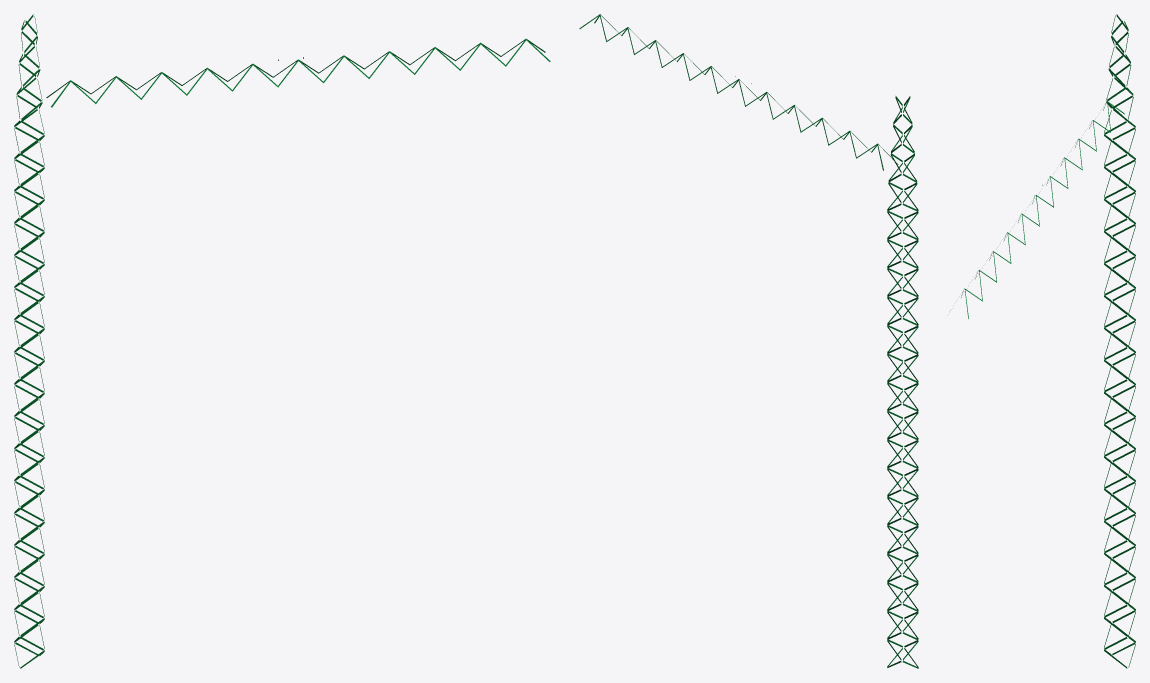
File: DblSided.001.fbx
The picture shows the model from 3 angles, left to right: view 1: azimuth 30°, elevation 25°; view 2: azimuth 150°, elevation 25°; view 3: azimuth 270°, elevation 25°; orthographic projection. The views are drawn at different scales.
Visible parts, largest first — view 1: DblSided.001; view 2: DblSided.001; view 3: DblSided.001.
Boxes of the visible parts, bbox=[...] form: DblSided.001: bbox=[14, 14, 550, 668]; DblSided.001: bbox=[579, 14, 918, 668]; DblSided.001: bbox=[950, 14, 1135, 668].
Bounding box in the file's own units: 1466 × 4067 × 5520.
